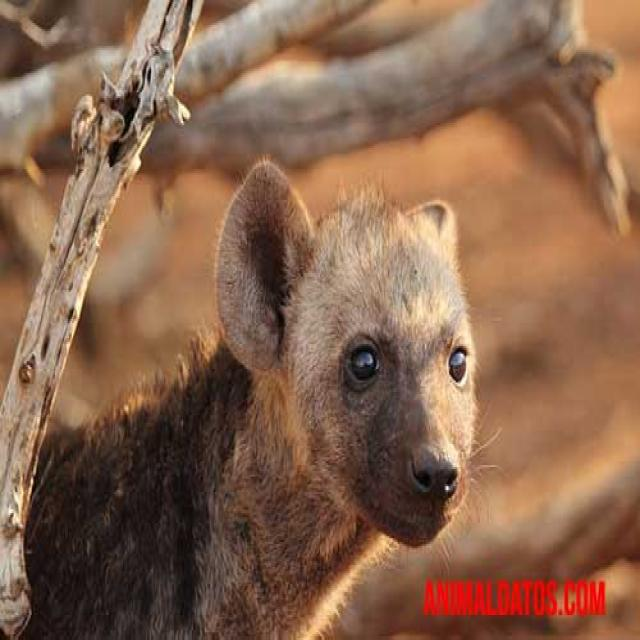Carnivorous: (15, 160, 480, 640)
